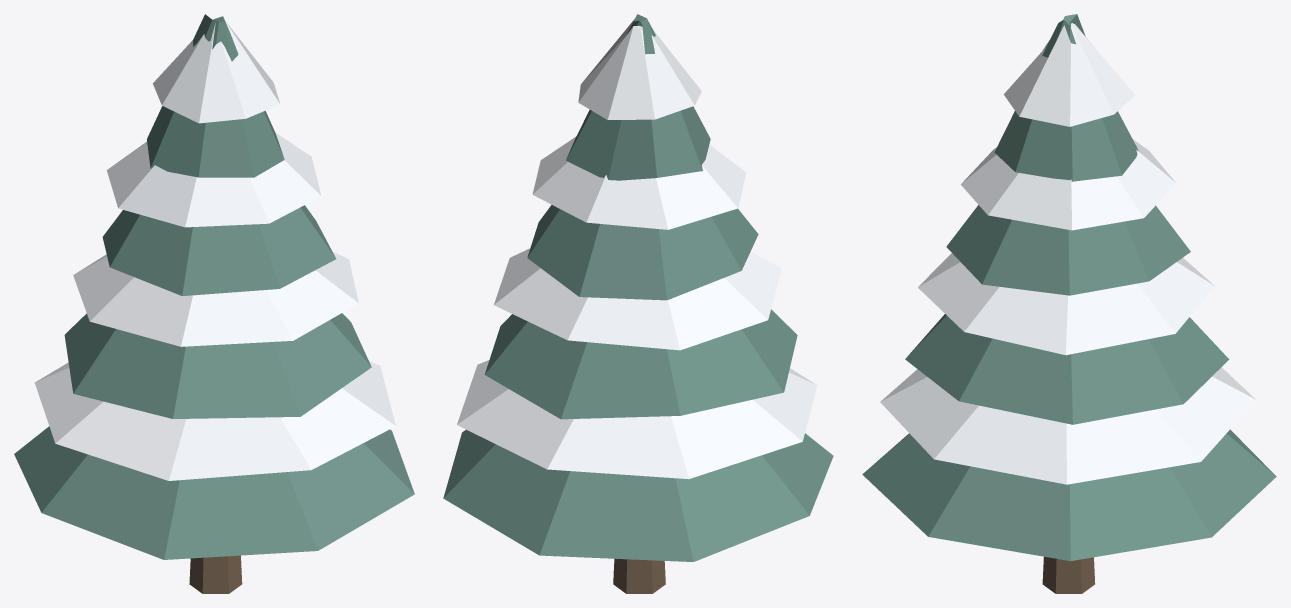
The model's file is snow_pine.glb.
3 renders of one model, left to right at view 1: azimuth 30°, elevation 25°; view 2: azimuth 150°, elevation 25°; view 3: azimuth 270°, elevation 25°, orthographic.
Parts seen in each view (by area): view 1: snow_pine; view 2: snow_pine; view 3: snow_pine.
Boxes of the visible parts, x1=… form: snow_pine: x1=14, y1=14, x2=414, y2=593; snow_pine: x1=443, y1=14, x2=833, y2=593; snow_pine: x1=862, y1=14, x2=1276, y2=593.
Size of the model in its own units: 3.36 by 5.23 by 3.46.
